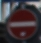No entry: (5, 6, 36, 37)
